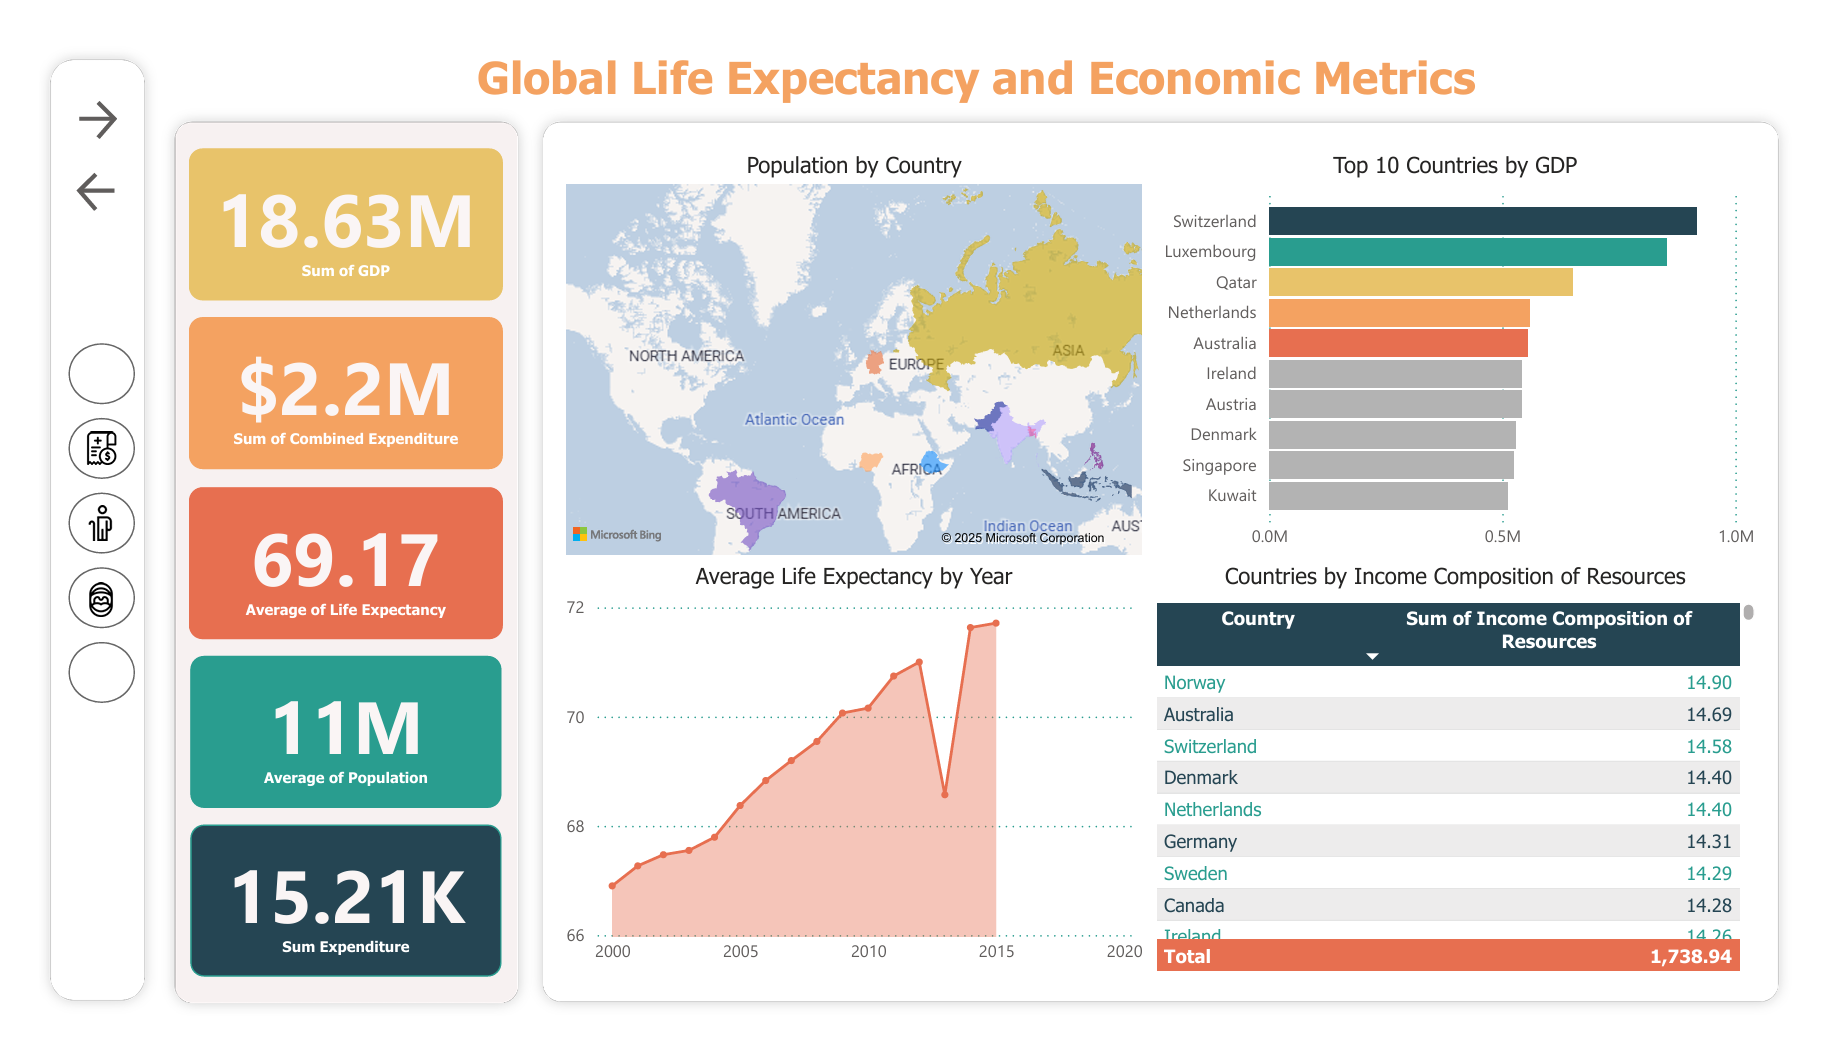

What the dashboard file says about the page in this screenshot:
{"tool":"powerbi","page":{"name":"Global Life Expectancy and Economic Metrics","canvas":[1280,720],"ordinal":2},"visuals":[{"type":"group","id":"g1","title":"Group 2","box":[4.2,9.7,87.5,700.3],"z":0},{"type":"shape","box":[4.2,9.7,87.5,700.3],"z":0,"group":"g1"},{"type":"textbox","box":[94.9,8,1176.7,55],"z":1000},{"type":"actionButton","box":[29.4,39.3,37.1,47.9],"z":1000,"group":"g1"},{"type":"shape","box":[360,55,913.3,656.2],"z":2000},{"type":"actionButton","box":[29.4,91.2,37.1,47.6],"z":2000,"group":"g1"},{"type":"shape","box":[93.9,55.4,267.8,656.2],"z":3000},{"type":"pageNavigator","box":[26.6,225.2,48.8,260.7],"z":3000,"group":"g3"},{"type":"card","fields":{"Values":["Avg(Table 1.Population)"]},"box":[115.2,450.9,225.2,110],"z":3000,"group":"g2"},{"type":"card","fields":{"Values":["Sum(Table 1.GDP)"]},"box":[114.3,83.8,227,110],"z":4000,"group":"g2"},{"type":"filledMap","title":"Population by Country","fields":{"Category":["Table 1.Country"],"Series":["Table 1.Population"]},"box":[382.2,85.6,426,297.6],"z":4000},{"type":"image","box":[31.9,325.4,36.4,58.5],"z":4000,"group":"g4"},{"type":"group","id":"g2","title":"Group 1","box":[114.3,83.8,227,599.4],"z":5000},{"type":"card","fields":{"Values":["Sum(Life Expectancy.Combined Expenditure)"]},"box":[114.3,206.2,227,110],"z":5000,"group":"g2"},{"type":"image","box":[32.8,391,35.5,37.2],"z":5000,"group":"g4"},{"type":"barChart","title":"Top 10 Countries by GDP","fields":{"Category":["Table 1.Country"],"Y":["Sum(Table 1.GDP)"]},"box":[808.3,85.6,442.6,297.6],"z":6000},{"type":"image","box":[33.8,275.7,33.7,49.7],"z":7000,"group":"g4"},{"type":"lineChart","fields":{"Category":["Table 1.Year"],"Y":["Table 1.Average_life_expectancy"]},"box":[382.2,383.2,426,299.6],"z":7000},{"type":"card","fields":{"Values":["Avg(Table 1.Life expectancy)"]},"box":[114.3,328.5,227,110],"z":8000,"group":"g2"},{"type":"tableEx","title":"Countries by Income Composition of Resources","fields":{"Values":["Table 1.Country","Sum(Table 1.Income composition of resources)"]},"box":[808.3,383.2,442.6,299.6],"z":8000},{"type":"group","id":"g3","title":"Group 4","box":[26.6,225.2,48.8,260.7],"z":9000},{"type":"group","id":"g4","title":"Group 1","box":[31.9,275.7,36.4,152.5],"z":9001,"group":"g3"},{"type":"card","fields":{"Values":["Life Expectancy.Sum Expenditure"]},"box":[115.6,573.3,224.3,110],"z":11000,"group":"g2"}]}

Visuals, with their boxes on the page's 1280x720 design canvas (x1, y1, x2, y2). These are canvas units, not pixel positions in the 1832x1059 screenshot, which may show the page scaled, cropped or inside an application window:
"Group 2" group: [4, 10, 92, 710]
shape: [4, 10, 92, 710]
textbox: [95, 8, 1272, 63]
actionButton: [29, 39, 66, 87]
shape: [360, 55, 1273, 711]
actionButton: [29, 91, 66, 139]
shape: [94, 55, 362, 712]
pageNavigator: [27, 225, 75, 486]
card - Avg(Table 1.Population): [115, 451, 340, 561]
card - Sum(Table 1.GDP): [114, 84, 341, 194]
"Population by Country" filledMap: [382, 86, 808, 383]
image: [32, 325, 68, 384]
"Group 1" group: [114, 84, 341, 683]
card - Sum(Life Expectancy.Combined Expenditure): [114, 206, 341, 316]
image: [33, 391, 68, 428]
"Top 10 Countries by GDP" barChart: [808, 86, 1251, 383]
image: [34, 276, 68, 325]
lineChart - Table 1.Year x Table 1.Average_life_expectancy: [382, 383, 808, 683]
card - Avg(Table 1.Life expectancy): [114, 328, 341, 438]
"Countries by Income Composition of Resources" tableEx: [808, 383, 1251, 683]
"Group 4" group: [27, 225, 75, 486]
"Group 1" group: [32, 276, 68, 428]
card - Life Expectancy.Sum Expenditure: [116, 573, 340, 683]
